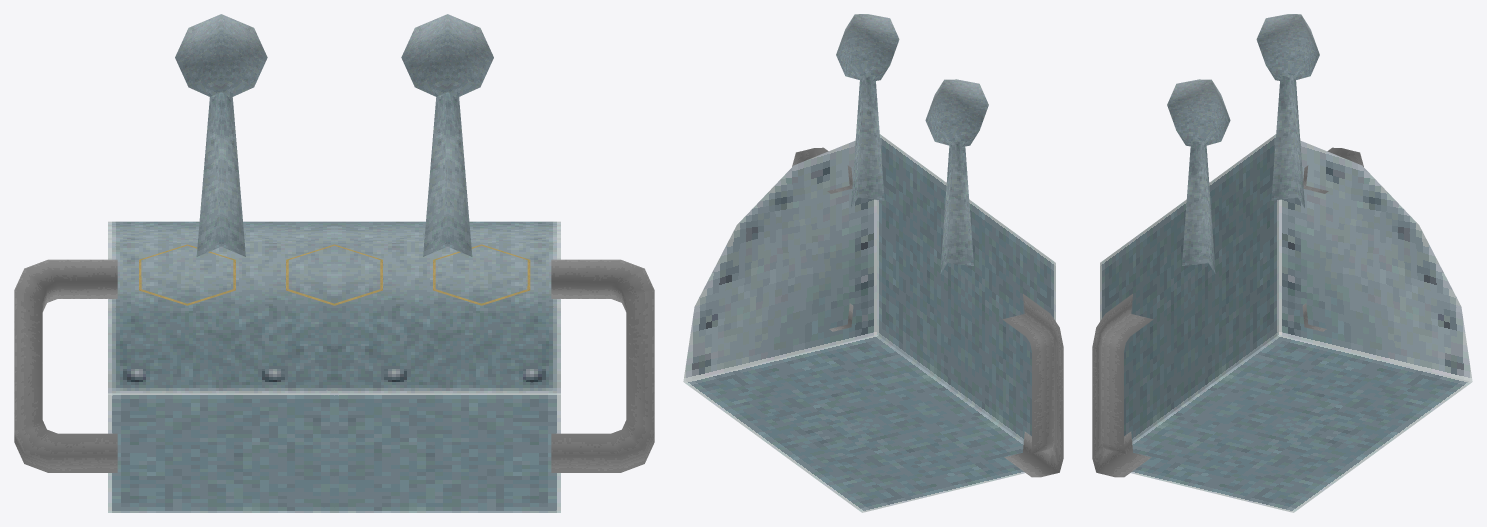
Rendered from ps2_save-icons_tetsujin28-go.glb.
3 views of the same model, side by side, from view 1: azimuth 30°, elevation 25°; view 2: azimuth 150°, elevation 25°; view 3: azimuth 270°, elevation 25° (orthographic). The views are drawn at different scales.
Parts seen in each view (by area): view 1: sandlot.ico; view 2: sandlot.ico; view 3: sandlot.ico.
Boxes of the visible parts, x1,y1,x2,y2 form: sandlot.ico: (14, 14, 654, 512); sandlot.ico: (683, 14, 1063, 512); sandlot.ico: (1092, 14, 1472, 512).
Bounding box in the file's own units: 4.19 × 3.62 × 3.4.
1 material, 1 textured.
